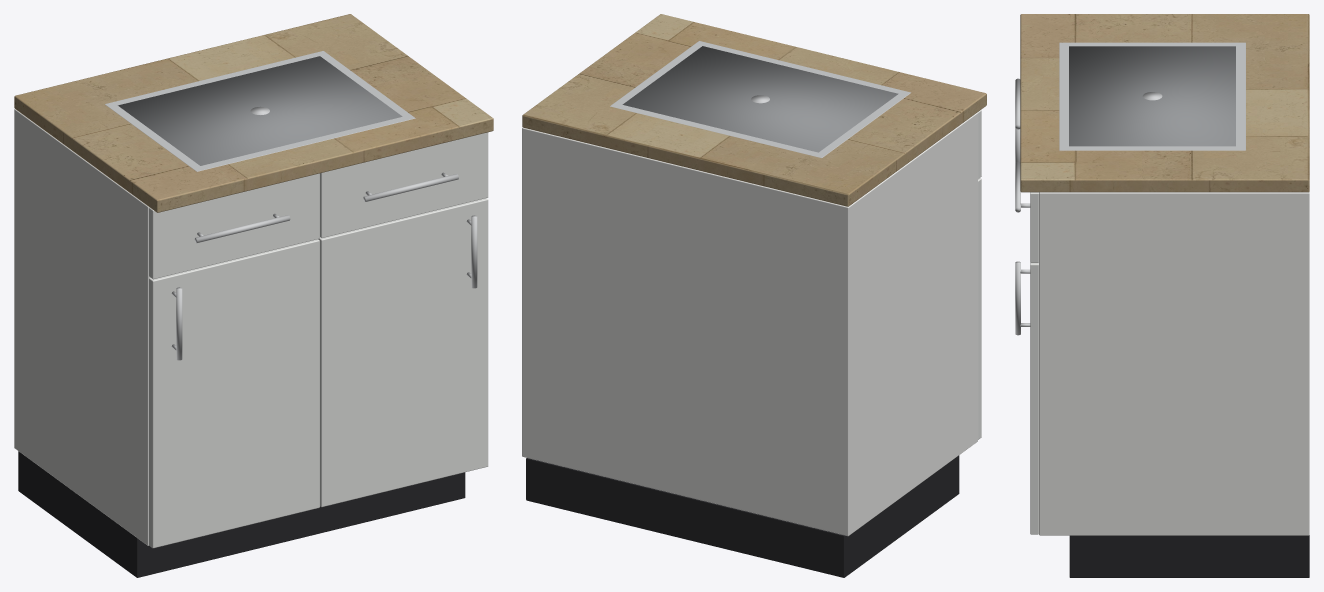
Rendered from sink_unit.glb.
The picture shows the model from 3 angles, left to right: view 1: azimuth 30°, elevation 25°; view 2: azimuth 150°, elevation 25°; view 3: azimuth 270°, elevation 25°; orthographic projection. The views are drawn at different scales.
Visible parts, largest first — view 1: Cube.001, Cube.003, Cube.005, Cube.006, Cube.008, Cube, Cube.002, Cube.004, Cube.007, Cylinder.006, Cylinder; view 2: Cube.001, Cube.006, Cube, Cube.008, Cube.007, Cube.003; view 3: Cube.001, Cube.006, Cube.008, Cube, Cube.007, Cube.005, Cube.004, Cylinder.009.
Boxes of the visible parts, <box> form: Cube.001: <box>14,109,150,545</box>; Cube.003: <box>149,239,319,548</box>; Cube.005: <box>318,198,488,506</box>; Cube.006: <box>14,14,493,212</box>; Cube.008: <box>118,56,402,165</box>; Cube: <box>18,451,465,577</box>; Cube.002: <box>149,173,319,279</box>; Cube.004: <box>320,132,488,237</box>; Cube.007: <box>105,51,415,171</box>; Cylinder.006: <box>363,174,458,201</box>; Cylinder: <box>194,215,290,243</box>; Cube.001: <box>522,112,977,536</box>; Cube.006: <box>522,14,986,206</box>; Cube: <box>526,455,959,577</box>; Cube.008: <box>622,46,898,152</box>; Cube.007: <box>610,41,910,157</box>; Cube.003: <box>978,178,981,439</box>; Cube.001: <box>1039,192,1309,535</box>; Cube.006: <box>1020,14,1309,192</box>; Cube.008: <box>1069,46,1235,146</box>; Cube: <box>1069,535,1309,577</box>; Cube.007: <box>1059,42,1245,150</box>; Cube.005: <box>1030,262,1038,534</box>; Cube.004: <box>1030,192,1038,262</box>; Cylinder.009: <box>1015,261,1020,335</box>.
Size of the model in its own units: 0.8 by 0.901 by 0.5995.
Materials: 7 (1 with a texture image).
